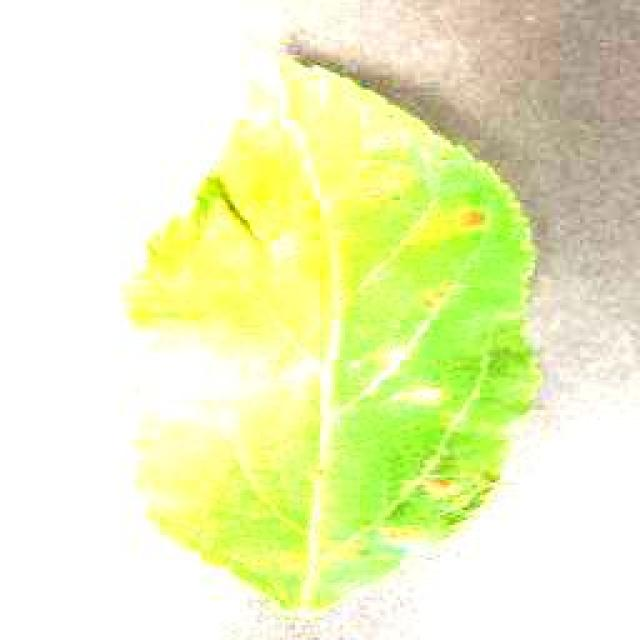apple scab disease: (120, 43, 545, 615)
